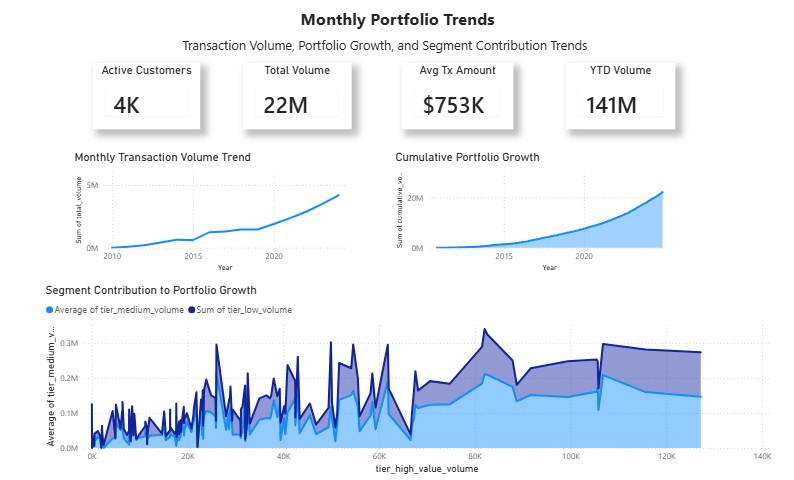

What the dashboard file says about the page in this screenshot:
{"tool":"powerbi","page":{"name":"Monthly Trends","canvas":[1280,720],"ordinal":2},"visuals":[{"type":"lineChart","title":"Monthly Transaction Volume Trend","fields":{"Category":["pbi_monthly_trends.month_start.Variation.Date Hierarchy.Year","pbi_monthly_trends.month_start.Variation.Date Hierarchy.Quarter","pbi_monthly_trends.month_start.Variation.Date Hierarchy.Month","pbi_monthly_trends.month_start.Variation.Date Hierarchy.Day"],"Y":["Sum(pbi_monthly_trends.total_volume)"]},"box":[170.3,231.9,409.5,182],"z":0},{"type":"areaChart","title":"Cumulative Portfolio Growth","fields":{"Y":["Sum(pbi_monthly_trends.cumulative_volume)"],"Category":["pbi_monthly_trends.month_start.Variation.Date Hierarchy.Year","pbi_monthly_trends.month_start.Variation.Date Hierarchy.Quarter","pbi_monthly_trends.month_start.Variation.Date Hierarchy.Month","pbi_monthly_trends.month_start.Variation.Date Hierarchy.Day"]},"box":[640,231.9,413.9,182],"z":1000},{"type":"stackedAreaChart","title":"Segment Contribution to Portfolio Growth","fields":{"Category":["pbi_monthly_trends.tier_high_value_volume"],"Y":["Avg(pbi_monthly_trends.tier_medium_volume)","Sum(pbi_monthly_trends.tier_low_volume)"]},"box":[127.7,425.7,1073,284.8],"z":2000},{"type":"textbox","box":[500.5,17.6,330.7,62.9],"z":2001},{"type":"textbox","box":[327.8,60,674.6,52.7],"z":2002},{"type":"cardVisual","title":"Active Customers","fields":{"Data":["Sum(pbi_monthly_trends.active_customers)"]},"box":[202.6,104.2,157.1,96.9],"z":2003},{"type":"cardVisual","title":"Total Volume","fields":{"Data":["Sum(pbi_monthly_trends.total_volume)"]},"box":[421.3,104.2,158.5,96.9],"z":2004},{"type":"cardVisual","title":"Avg Tx Amount","fields":{"Data":["Sum(pbi_monthly_trends.avg_tx_amount)"]},"box":[654.7,104.2,162.9,96.9],"z":2005},{"type":"cardVisual","title":"YTD Volume","fields":{"Data":["Sum(pbi_monthly_trends.ytd_volume)"]},"box":[893.9,104.2,160,96.9],"z":2007}]}

Visuals, with their boxes on the page's 1280x720 design canvas (x1, y1, x2, y2). These are canvas units, not pixel positions in the 794x480 screenshot, which may show the page scaled, cropped or inside an application window:
"Monthly Transaction Volume Trend" lineChart: <region>170, 232, 580, 414</region>
"Cumulative Portfolio Growth" areaChart: <region>640, 232, 1054, 414</region>
"Segment Contribution to Portfolio Growth" stackedAreaChart: <region>128, 426, 1201, 710</region>
textbox: <region>500, 18, 831, 80</region>
textbox: <region>328, 60, 1002, 113</region>
"Active Customers" cardVisual: <region>203, 104, 360, 201</region>
"Total Volume" cardVisual: <region>421, 104, 580, 201</region>
"Avg Tx Amount" cardVisual: <region>655, 104, 818, 201</region>
"YTD Volume" cardVisual: <region>894, 104, 1054, 201</region>
